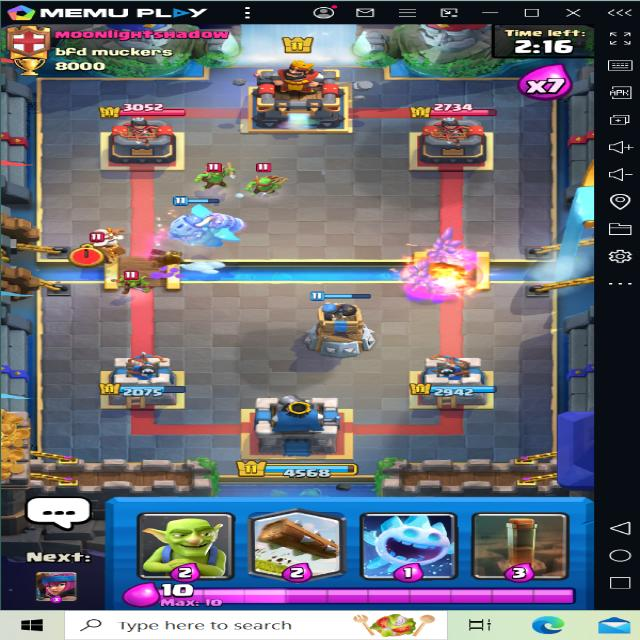Goblin: (116, 266, 156, 292)
Monk: (72, 224, 131, 264)
Speargoblin: (193, 162, 232, 195), (246, 163, 286, 195)
